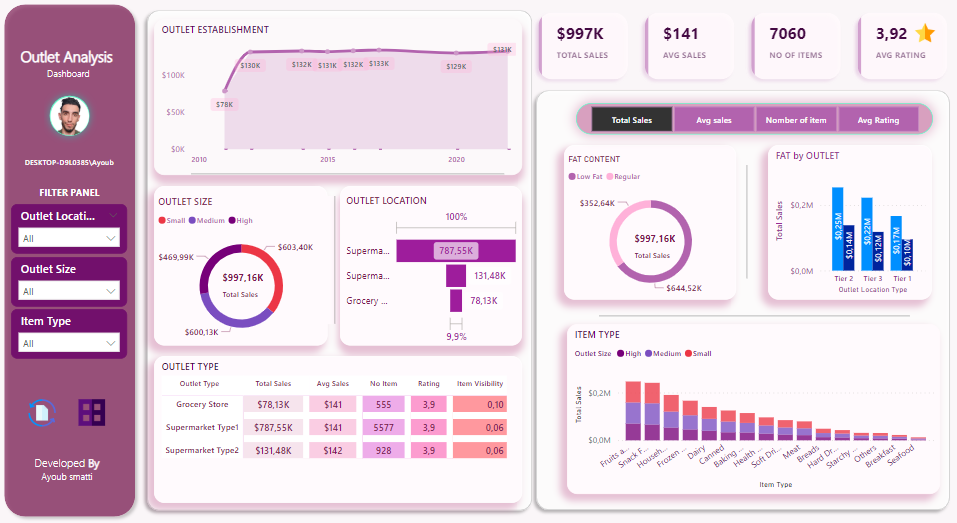

The page's visual inventory and layout, read from the dashboard file:
{"tool":"powerbi","page":{"name":"HOME","canvas":[1400,800],"ordinal":0},"visuals":[{"type":"shape","box":[12.5,3.8,205,750],"z":0},{"type":"textbox","box":[40,67.5,150,42.5],"z":1000},{"type":"textbox","box":[31,98,164,35],"z":2000},{"type":"cardVisual","fields":{"Data":["Data.Total Sales","Data.Avg sales","Data.Nomber of item","Data.Avg Rating"]},"box":[772.5,12.5,608.8,120],"z":3000},{"type":"shape","box":[772.5,127.5,608.8,617.5],"z":4000},{"type":"donutChart","title":"FAT CONTENT","fields":{"Y":["FACT_Sales.Total Sales"],"Category":["Data.Item Fat Content"]},"box":[821.4,214.3,245.7,221.4],"z":5000},{"type":"slicer","fields":{"Values":["Metrics.Metrics"]},"box":[838.8,153.8,510,45],"z":6000},{"type":"cardVisual","fields":{"Data":["Data.Total Sales"]},"box":[897.1,314.3,114.3,71.4],"z":7000},{"type":"clusteredColumnChart","title":"FAT by OUTLET","fields":{"Y":["FACT_Sales.Total Sales"],"Category":["DIM_Outlet.Outlet Location Type"],"Series":["DIM_Item.Item Fat Content"]},"box":[1112.9,214.3,234.3,221.4],"z":8000},{"type":"shape","box":[871.1,400,444.4,116.7],"z":9000},{"type":"shape","box":[1066.7,243.3,31.1,162.2],"z":10000},{"type":"shape","box":[217.5,12.5,567.5,732.5],"z":11000},{"type":"lineChart","title":"OUTLET ESTABLISHMENT","fields":{"Y":["Data.Total Sales"],"Category":["DIM_Outlet.Outlet Establishment Year"]},"box":[235,33.8,526.2,222.5],"z":12000},{"type":"shape","box":[288.8,208.8,447.5,93.8],"z":13000},{"type":"donutChart","title":"OUTLET SIZE","fields":{"Y":["Data.Total Sales"],"Category":["DIM_Outlet.Outlet Size"]},"box":[235,272.5,247.5,227.5],"z":14000},{"type":"cardVisual","fields":{"Data":["Data.Total Sales"]},"box":[308.8,370,115,71.2],"z":15000},{"type":"shape","box":[481.2,287.5,25,182.5],"z":16000},{"type":"funnel","title":"OUTLET LOCATION","fields":{"Y":["Sum(Data.Sales)"],"Category":["DIM_Outlet.Outlet Type"]},"box":[501.2,272.5,260,227.5],"z":17000},{"type":"pivotTable","title":"OUTLET TYPE","fields":{"Values":["Data.Total Sales","Data.Avg sales","Data.Nomber of item","Data.Avg Rating","Avg(Data.Item Visibility)"],"Rows":["DIM_Outlet.Outlet Type"]},"box":[235.7,515.7,525.7,210],"z":18000},{"type":"slicer","fields":{"Values":["DIM_Outlet.Outlet Location Type"]},"box":[31.2,298.8,166.2,71.2],"z":19000},{"type":"slicer","fields":{"Values":["DIM_Outlet.Outlet Size"]},"box":[31.2,373.8,166.2,71.2],"z":20000},{"type":"slicer","fields":{"Values":["DIM_Outlet.Outlet Type"]},"box":[31.2,448.8,166.2,71.2],"z":21000},{"type":"textbox","box":[26.2,652.5,171.2,56.2],"z":22000},{"type":"shape","box":[75.9,133.5,78.8,79.4],"z":23000},{"type":"image","box":[82.9,138.8,65.3,69.4],"z":24000},{"type":"columnChart","title":"ITEM TYPE","fields":{"Y":["FACT_Sales.Total Sales"],"Category":["DIM_Item.Item Type"],"Series":["DIM_Outlet.Outlet Size"]},"box":[815.7,470,532.9,242.9],"z":25000},{"type":"image","box":[1315.7,34.3,42.9,38.6],"z":26000},{"type":"textbox","box":[60,268.6,110,32.9],"z":27000},{"type":"image","box":[51.2,571.2,48.8,50],"z":28000},{"type":"image","box":[122.5,571.2,47.5,50],"z":29000},{"type":"card","fields":{"Values":["Data.Current User"]},"box":[44.2,214.2,140.8,54.2],"z":30000}]}

Visuals, with their boxes in screenshot pixels (x1, y1, x2, y2):
shape: (3, 0, 135, 451)
textbox: (21, 9, 118, 36)
textbox: (15, 28, 121, 51)
cardVisual - Data.Total Sales x Data.Avg sales: (493, 0, 886, 51)
shape: (493, 47, 886, 446)
"FAT CONTENT" donutChart: (525, 103, 683, 246)
slicer - Metrics.Metrics: (536, 64, 865, 93)
cardVisual - Data.Total Sales: (574, 168, 648, 214)
"FAT by OUTLET" clusteredColumnChart: (713, 103, 864, 246)
shape: (557, 223, 844, 298)
shape: (683, 122, 703, 227)
shape: (135, 0, 501, 446)
"OUTLET ESTABLISHMENT" lineChart: (147, 0, 486, 130)
shape: (181, 100, 470, 160)
"OUTLET SIZE" donutChart: (147, 141, 306, 288)
cardVisual - Data.Total Sales: (194, 204, 268, 250)
shape: (305, 151, 322, 268)
"OUTLET LOCATION" funnel: (318, 141, 486, 288)
"OUTLET TYPE" pivotTable: (147, 298, 486, 433)
slicer - DIM_Outlet.Outlet Location Type: (15, 158, 122, 204)
slicer - DIM_Outlet.Outlet Size: (15, 206, 122, 252)
slicer - DIM_Outlet.Outlet Type: (15, 255, 122, 301)
textbox: (12, 386, 122, 422)
shape: (44, 51, 95, 102)
image: (49, 55, 91, 99)
"ITEM TYPE" columnChart: (521, 268, 865, 425)
image: (844, 0, 872, 12)
textbox: (34, 138, 105, 160)
image: (28, 334, 60, 366)
image: (74, 334, 105, 366)
card - Data.Current User: (24, 103, 114, 138)
